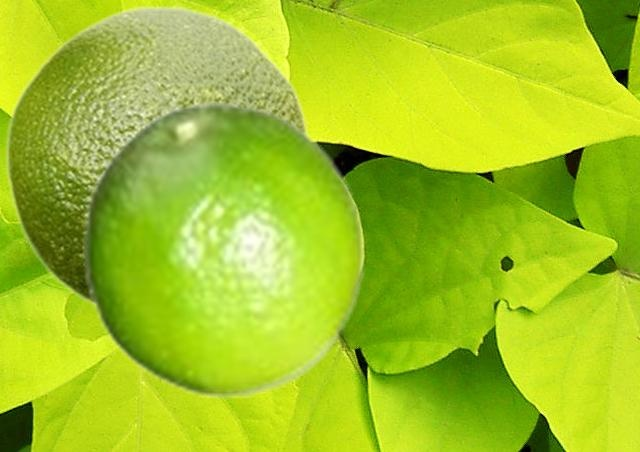calamansi: (4, 4, 309, 309), (82, 100, 366, 396)
